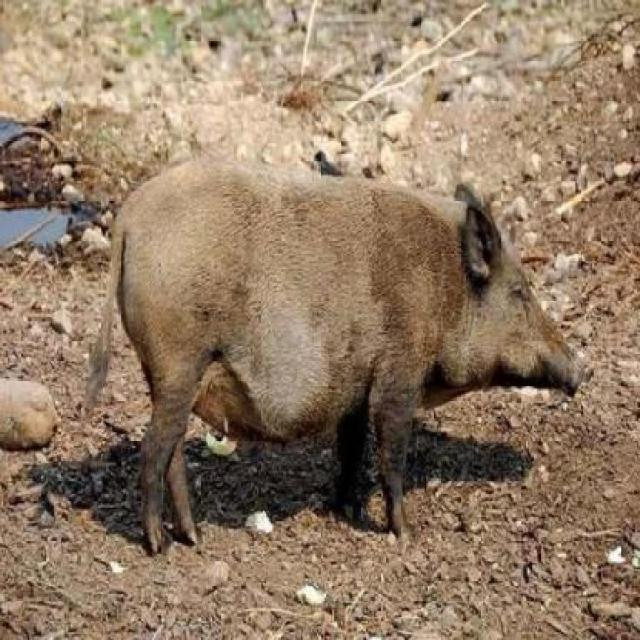Boar: (74, 156, 632, 550)
